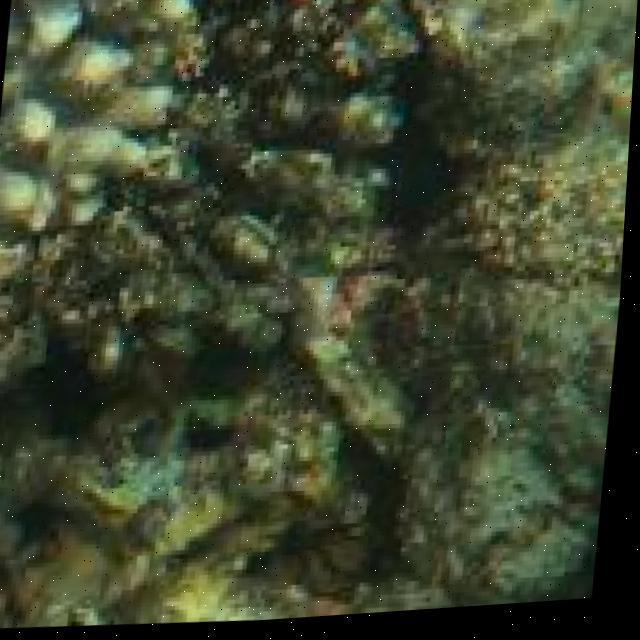Bleached Coral: (0, 0, 187, 245)
Dead Coral: (192, 0, 408, 274)
